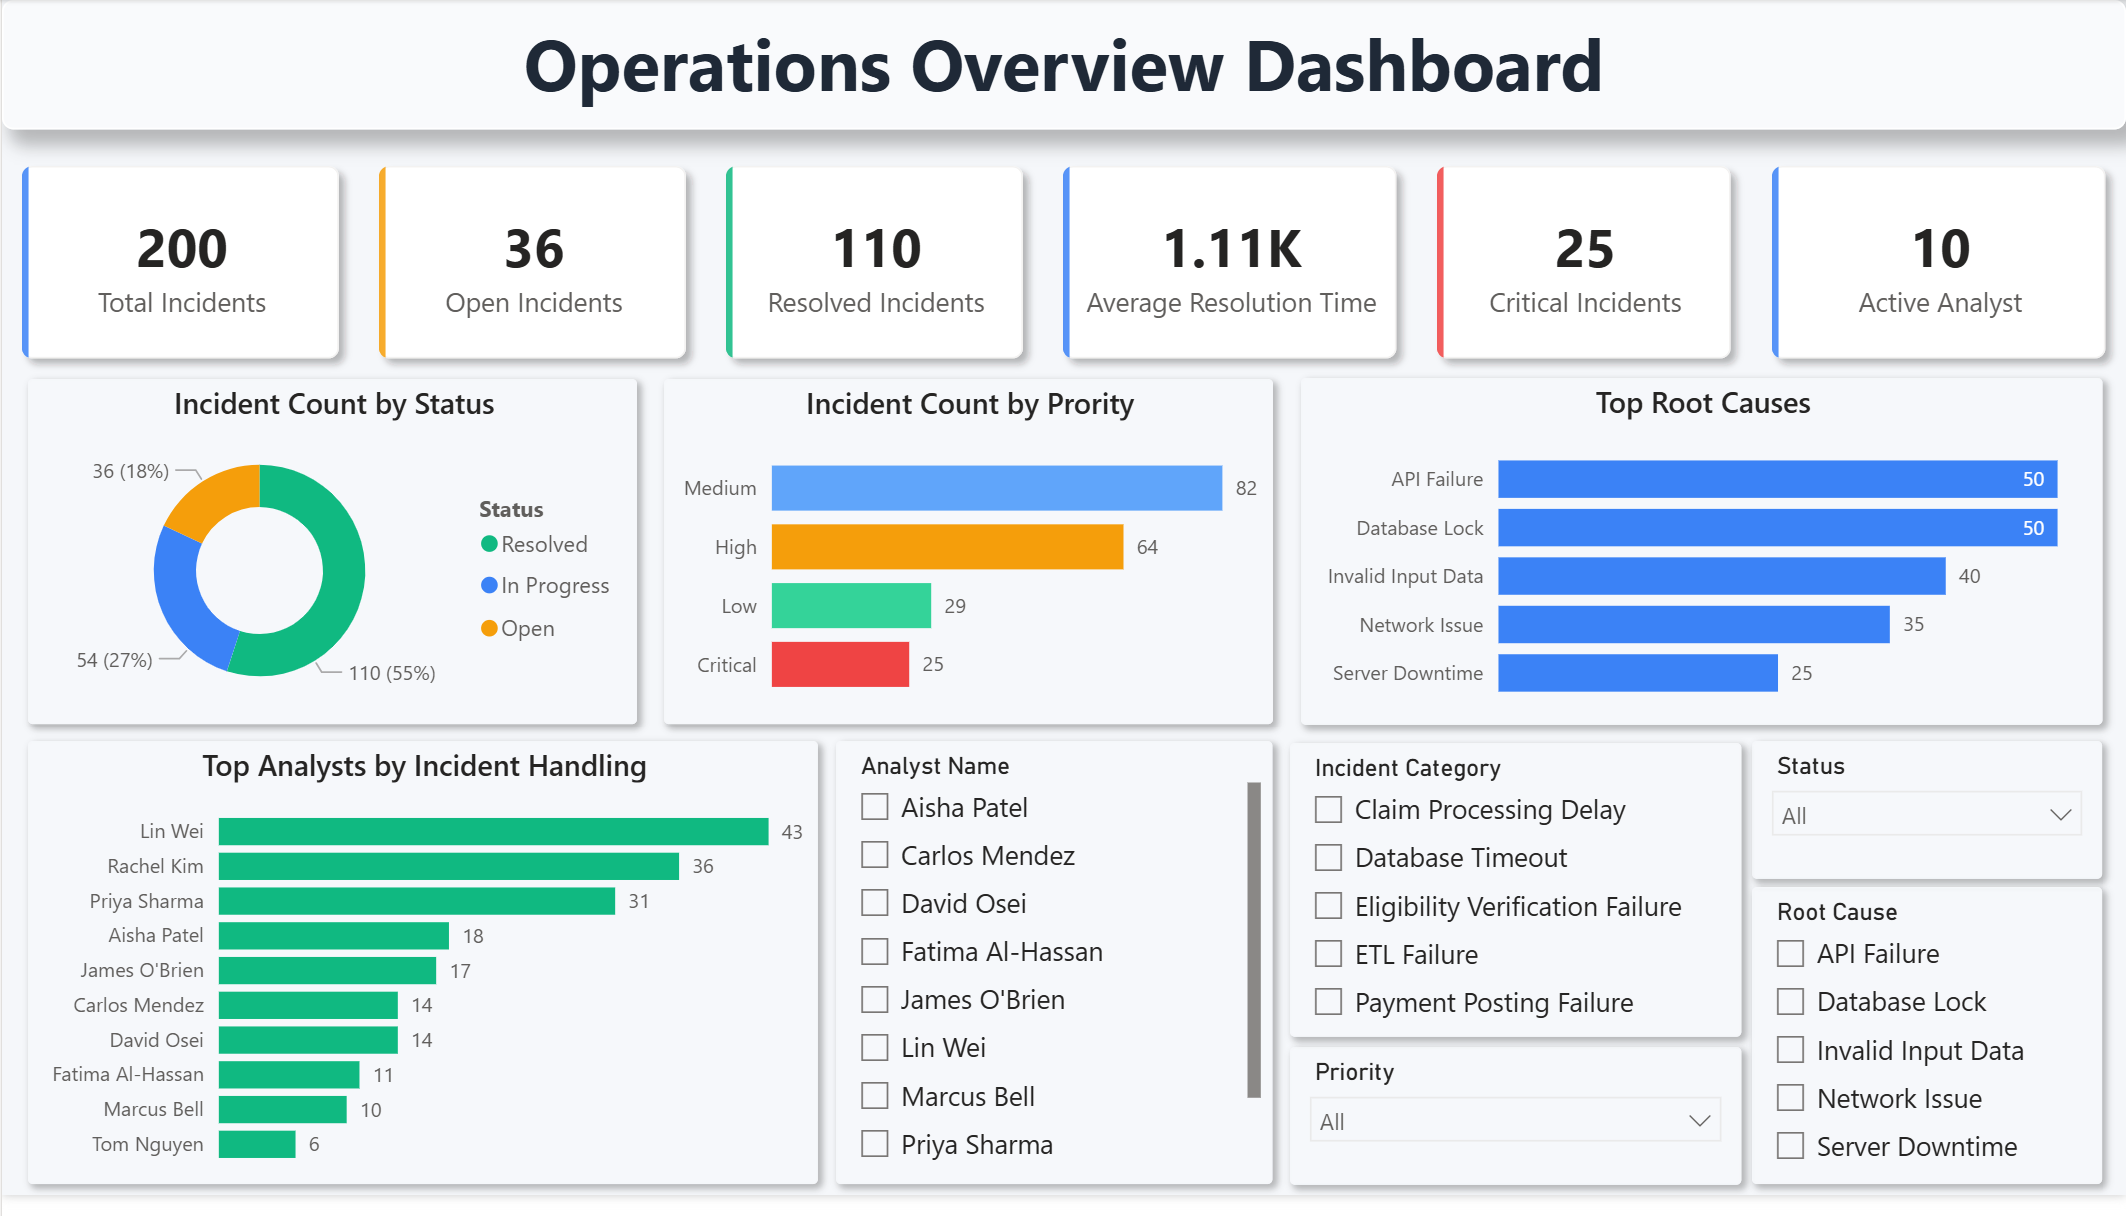

What the dashboard file says about the page in this screenshot:
{"tool":"powerbi","page":{"name":"Page 1","canvas":[1280,720],"ordinal":0},"visuals":[{"type":"textbox","box":[0,0,1280,77.7],"z":0},{"type":"cardVisual","fields":{"Data":["analysts.Total Incidents"]},"box":[0,88,215.1,140.4],"z":1000},{"type":"cardVisual","fields":{"Data":["analysts.Open Incidents"]},"box":[215.1,88,209.1,140.4],"z":2000},{"type":"cardVisual","fields":{"Data":["analysts.Average Resolution Time"]},"box":[627.3,88,225.4,140.4],"z":3000},{"type":"cardVisual","fields":{"Data":["analysts.Resolved Incidents"]},"box":[424.3,88,203.1,140.4],"z":4000},{"type":"cardVisual","fields":{"Data":["analysts.Critical Incidents"]},"box":[852.7,88,201.9,140.4],"z":5000},{"type":"cardVisual","fields":{"Data":["analysts.Active Analyst"]},"box":[1054.6,88,225.4,140.4],"z":6000},{"type":"donutChart","title":"Incident Count by Status","fields":{"Y":["Count(incidents.incident_id)"],"Category":["incidents.status"]},"box":[15.7,228.4,367,207.9],"z":7000},{"type":"barChart","title":"Incident Count by Prority","fields":{"Y":["Count(incidents.incident_id)"],"Category":["incidents.priority"]},"box":[398.9,228.4,367,207.9],"z":8000},{"type":"barChart","title":"Top Root Causes","fields":{"Category":["incidents.root_cause"],"Y":["Count(incidents.incident_id)"]},"box":[782.8,227.8,482.7,208.5],"z":9000},{"type":"barChart","title":"Top Analysts by Incident Handling","fields":{"Category":["analysts.analyst_name"],"Y":["Count(incidents.incident_id)"]},"box":[15.7,446.6,476.1,267],"z":10000},{"type":"slicer","fields":{"Values":["incidents.status"]},"box":[1054.6,446.6,210.9,82.6],"z":11000},{"type":"slicer","fields":{"Values":["incidents.priority"]},"box":[776.2,631,271.8,82.6],"z":12000},{"type":"slicer","fields":{"Values":["incidents.incident_category"]},"box":[776.2,447.8,271.8,176.6],"z":13000},{"type":"slicer","fields":{"Values":["analysts.analyst_name"]},"box":[502.6,446.6,263.4,267],"z":14000},{"type":"slicer","fields":{"Values":["incidents.root_cause"]},"box":[1054.6,534.5,210.9,179],"z":15000}]}

Visuals, with their boxes in screenshot pixels (x1, y1, x2, y2), scaled from the page's 1280x720 canvas onto the 2126x1216 screenshot:
textbox: bbox=[0, 0, 2125, 131]
cardVisual - analysts.Total Incidents: bbox=[0, 149, 357, 386]
cardVisual - analysts.Open Incidents: bbox=[357, 149, 705, 386]
cardVisual - analysts.Average Resolution Time: bbox=[1042, 149, 1416, 386]
cardVisual - analysts.Resolved Incidents: bbox=[705, 149, 1042, 386]
cardVisual - analysts.Critical Incidents: bbox=[1416, 149, 1752, 386]
cardVisual - analysts.Active Analyst: bbox=[1752, 149, 2125, 386]
"Incident Count by Status" donutChart: bbox=[26, 386, 636, 737]
"Incident Count by Prority" barChart: bbox=[663, 386, 1272, 737]
"Top Root Causes" barChart: bbox=[1300, 385, 2102, 737]
"Top Analysts by Incident Handling" barChart: bbox=[26, 754, 817, 1205]
slicer - incidents.status: bbox=[1752, 754, 2102, 894]
slicer - incidents.priority: bbox=[1289, 1066, 1741, 1205]
slicer - incidents.incident_category: bbox=[1289, 756, 1741, 1055]
slicer - analysts.analyst_name: bbox=[835, 754, 1272, 1205]
slicer - incidents.root_cause: bbox=[1752, 903, 2102, 1205]
